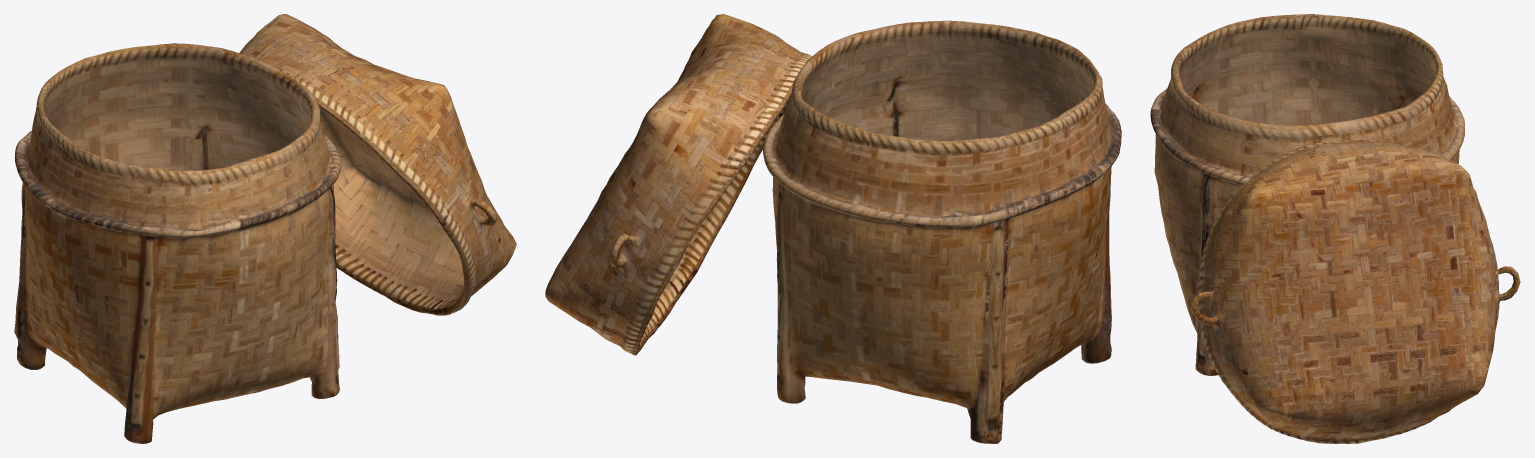
Rendered from ph_wicker_basket_02.glb.
3 renders of one model, left to right at view 1: azimuth 30°, elevation 25°; view 2: azimuth 150°, elevation 25°; view 3: azimuth 270°, elevation 25°, orthographic. The views are drawn at different scales.
Parts seen in each view (by area): view 1: wicker_basket_02_base, wicker_basket_02_lid; view 2: wicker_basket_02_base, wicker_basket_02_lid; view 3: wicker_basket_02_lid, wicker_basket_02_base.
Part boxes in pixels (bbox=[...]): wicker_basket_02_base: bbox=[14, 43, 341, 443]; wicker_basket_02_lid: bbox=[239, 14, 516, 315]; wicker_basket_02_base: bbox=[763, 20, 1121, 443]; wicker_basket_02_lid: bbox=[545, 14, 811, 355]; wicker_basket_02_lid: bbox=[1190, 140, 1520, 443]; wicker_basket_02_base: bbox=[1150, 14, 1464, 375].
Size of the model in its own units: 0.3469 by 0.2005 by 0.2545.
Materials: 1 (1 with a texture image).
